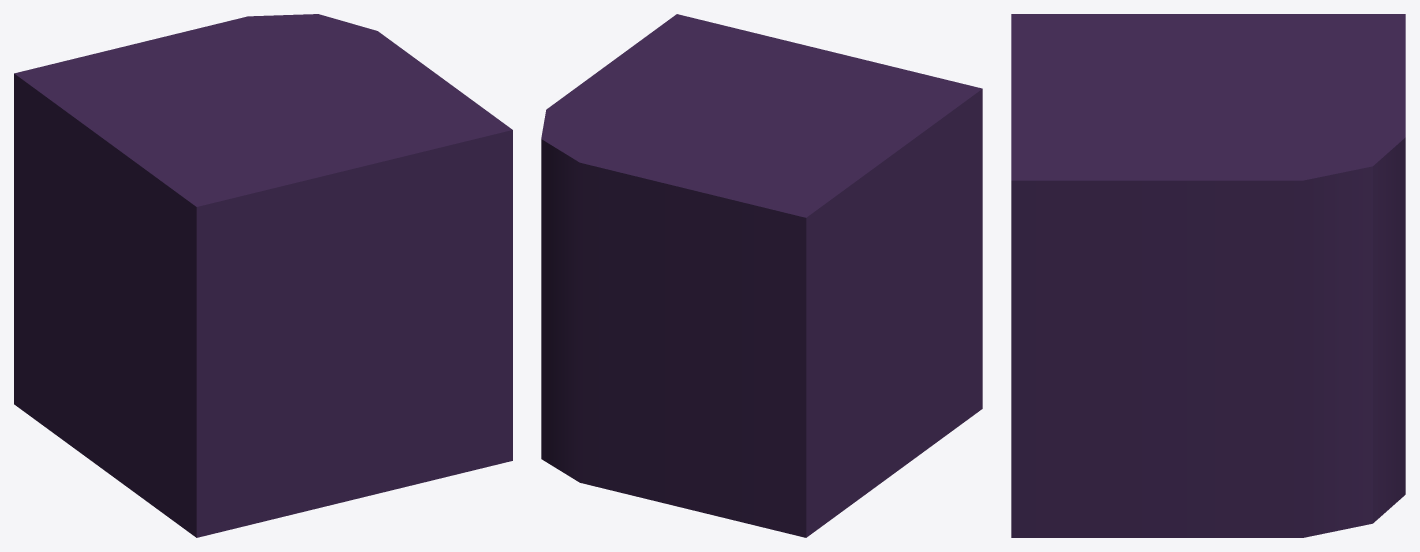
File: SM_ground_top_R.fbx
The picture shows the model from 3 angles, left to right: view 1: azimuth 30°, elevation 25°; view 2: azimuth 150°, elevation 25°; view 3: azimuth 270°, elevation 25°; orthographic projection. The views are drawn at different scales.
Parts seen in each view (by area): view 1: top_R; view 2: top_R; view 3: top_R.
Boxes of the visible parts, x1,y1,x2,y2 form: top_R: (14, 14, 512, 537); top_R: (541, 14, 982, 537); top_R: (1011, 14, 1405, 537).
Bounding box in the file's own units: 50 × 50 × 50.
